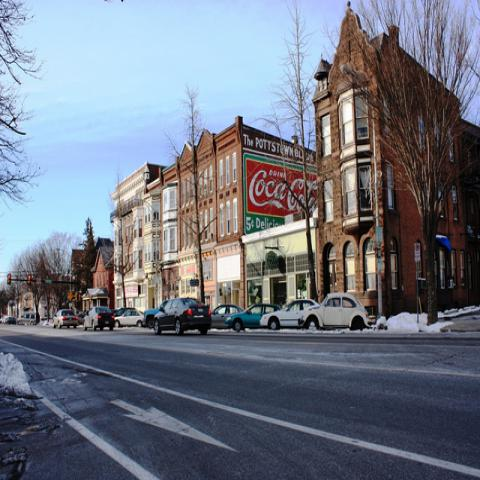car: (300, 292, 370, 332), (258, 295, 318, 333), (153, 298, 212, 336), (225, 302, 281, 333), (82, 306, 115, 332), (143, 300, 168, 329), (211, 306, 243, 328), (114, 309, 145, 328), (53, 309, 78, 329), (114, 308, 136, 316), (76, 313, 86, 326), (4, 317, 17, 325)
